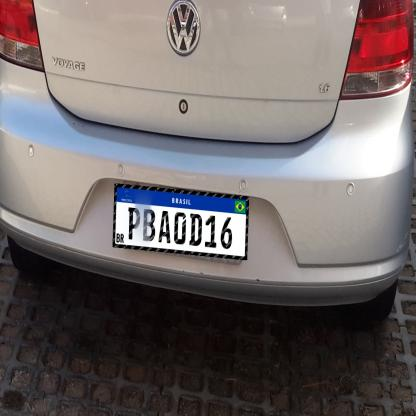PlacaM: (113, 184, 249, 260)
